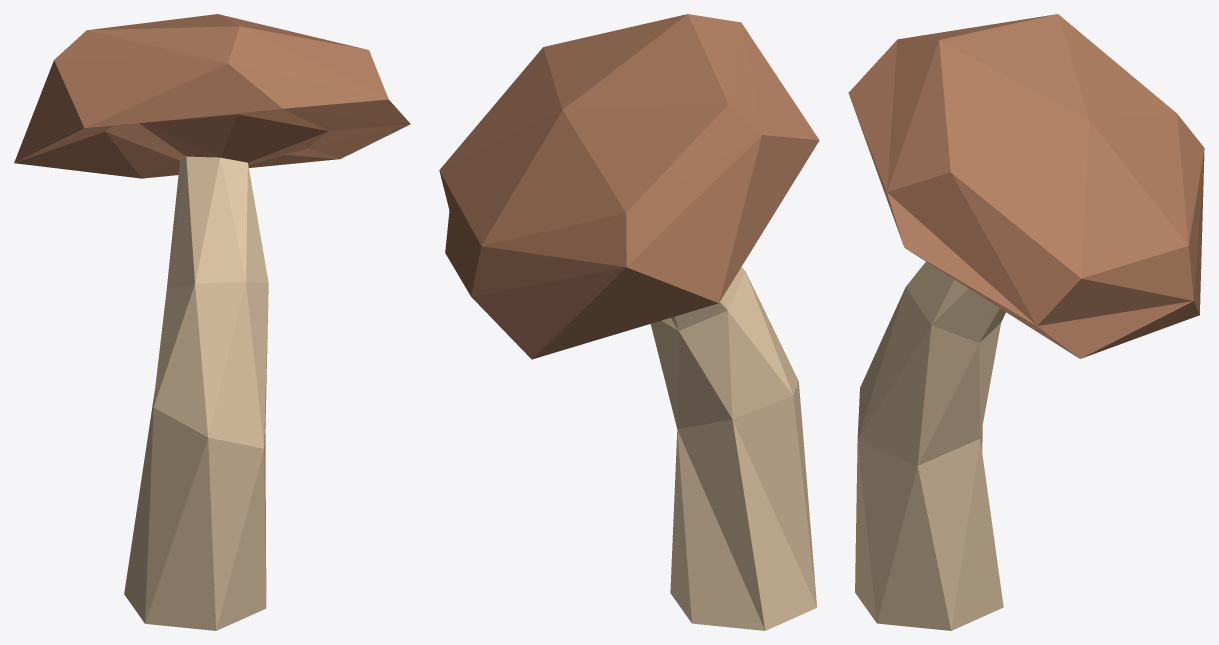
File: Mushroom 7_5.fbx
3 renders of one model, left to right at view 1: azimuth 30°, elevation 25°; view 2: azimuth 150°, elevation 25°; view 3: azimuth 270°, elevation 25°, orthographic. The views are drawn at different scales.
Visible parts, largest first — view 1: Mushroom 7_5; view 2: Mushroom 7_5; view 3: Mushroom 7_5.
Part boxes in pixels (<box>): Mushroom 7_5: <box>14,14,410,630</box>; Mushroom 7_5: <box>439,14,819,630</box>; Mushroom 7_5: <box>848,14,1204,630</box>.
Bounding box in the file's own units: 0.1592 × 0.2626 × 0.1448.
